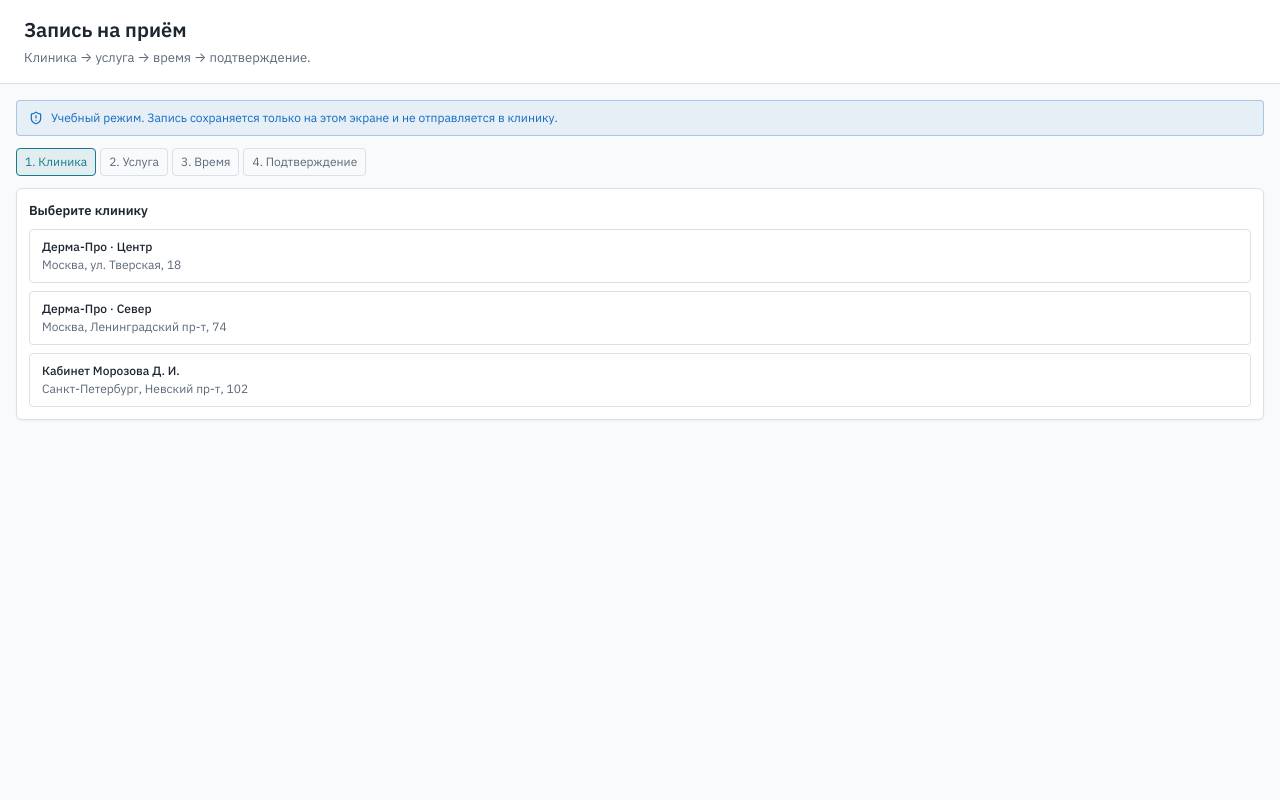
Test: Patient portal pages › MeBookingPage проходит шаги локально и подтверждает запись
This screenshot has width=1280, height=800.
Expected: the heading "Запись на приём" is shown, [24, 16, 186, 43]
Note: шаг 1: клиника
Click the text "Дерма-Про · Центр" at (97, 246), box [42, 238, 152, 254]
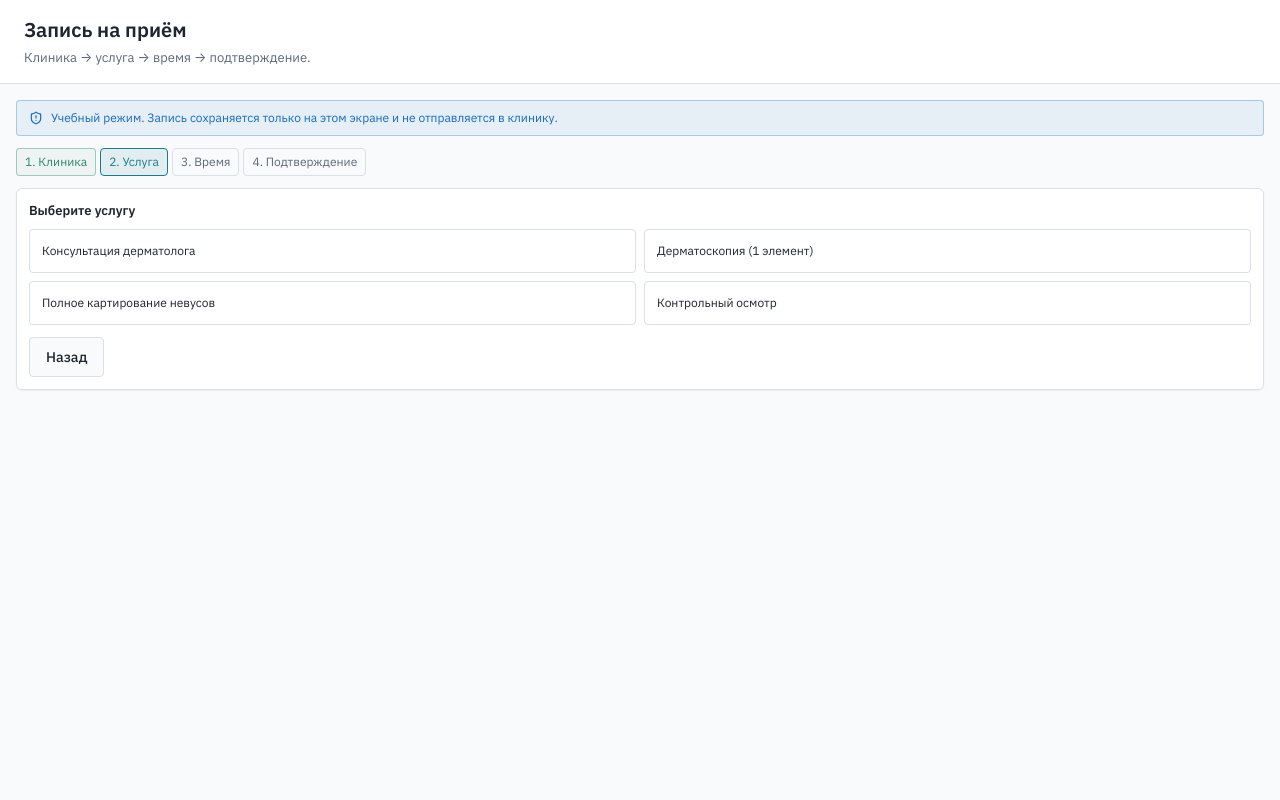
Note: шаг 2: услуга
Click the button "Консультация дерматолога" at (119, 250), box [29, 228, 636, 272]
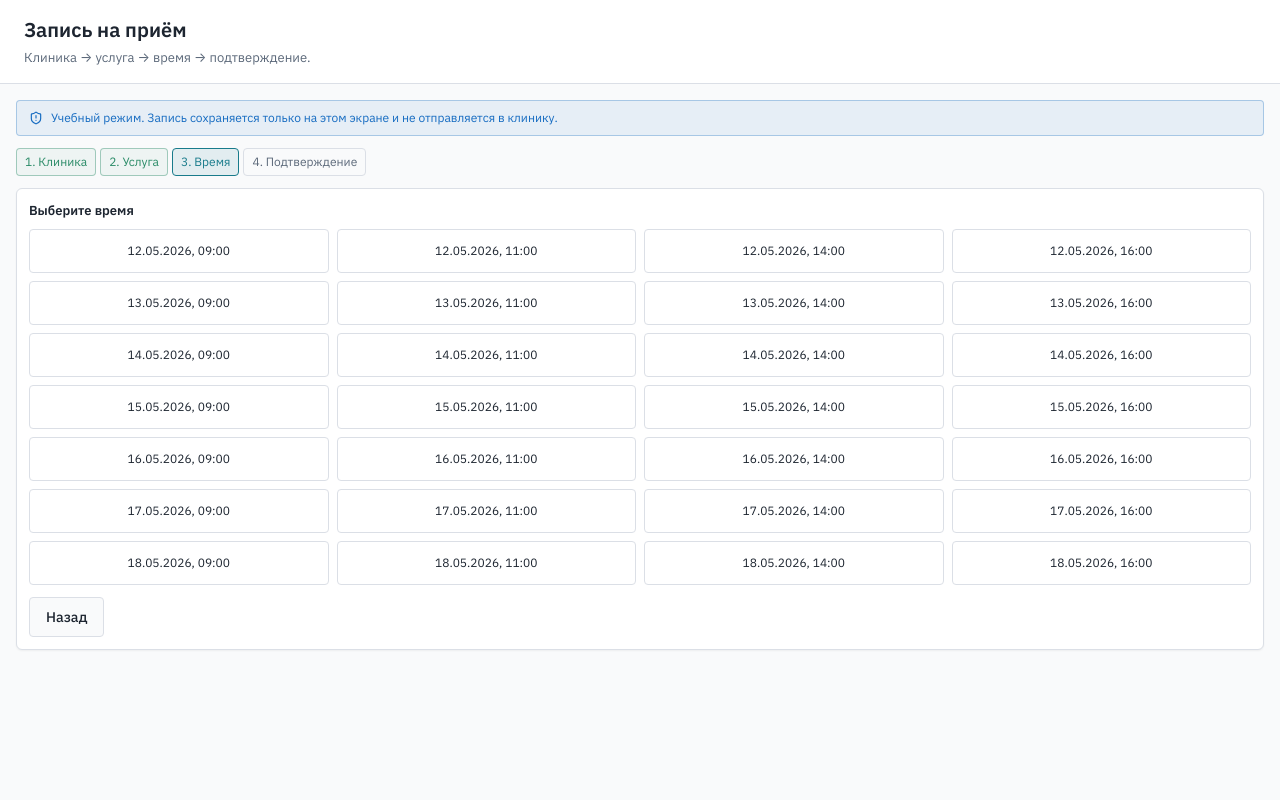
Click the button "12.05.2026, 09:00" at (179, 250), box [29, 228, 328, 272]
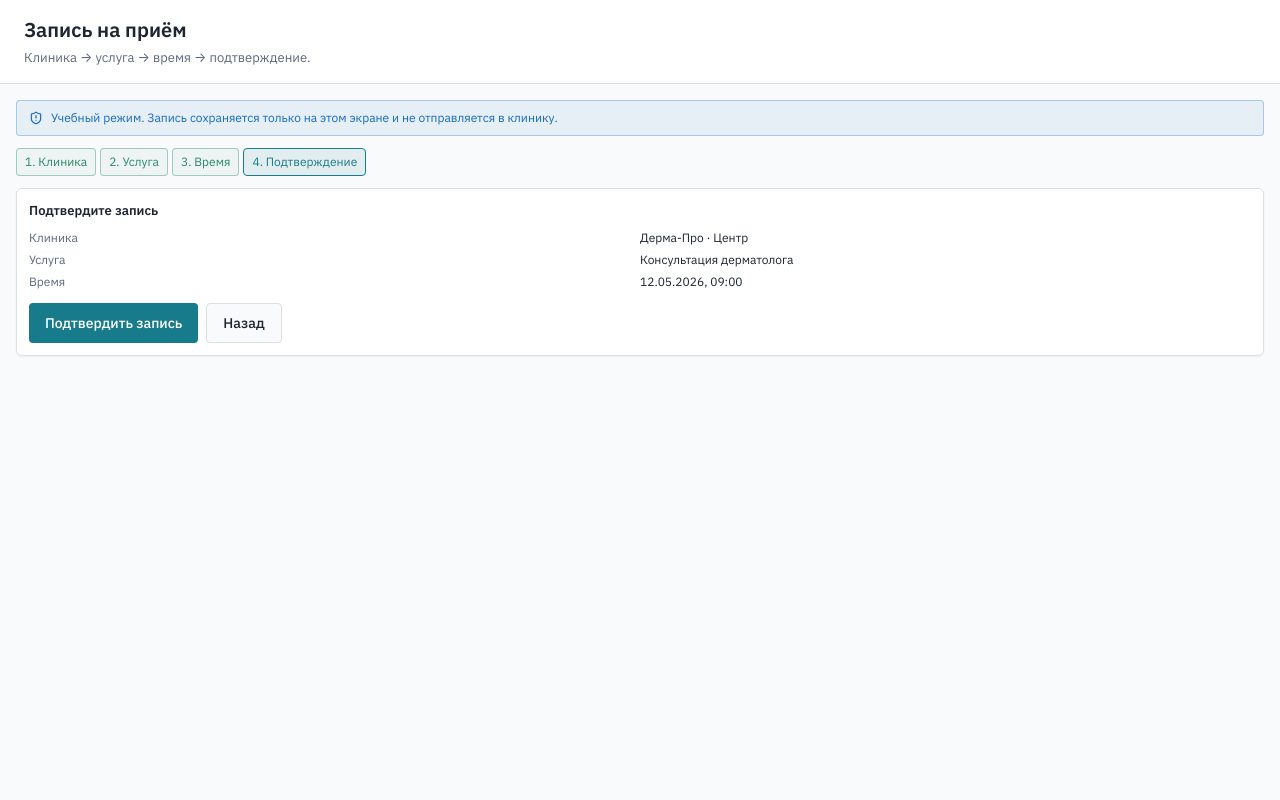
Note: шаг 4: подтвердить
Click the button "Подтвердить запись" at (114, 322), box [29, 302, 198, 342]
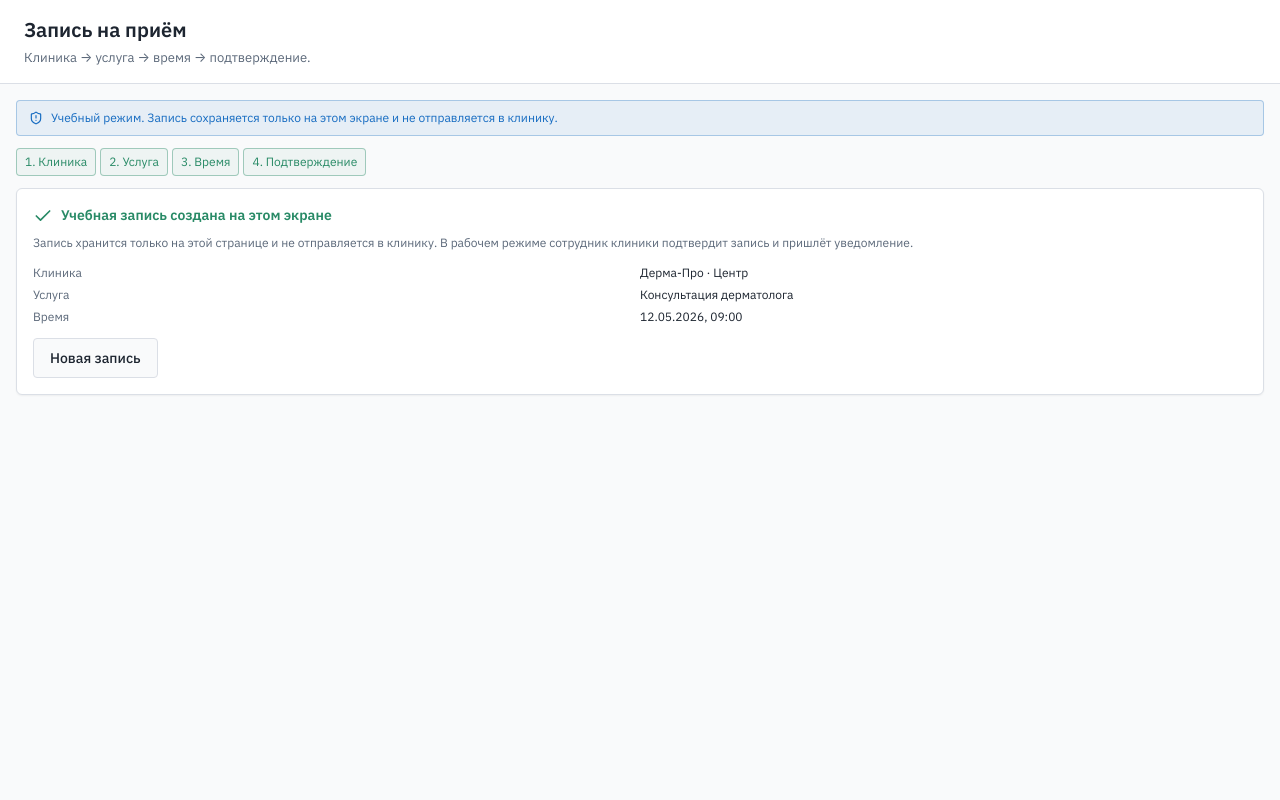
Expected: the text "Учебная запись создана на этом экране" is shown, [61, 205, 332, 226]
